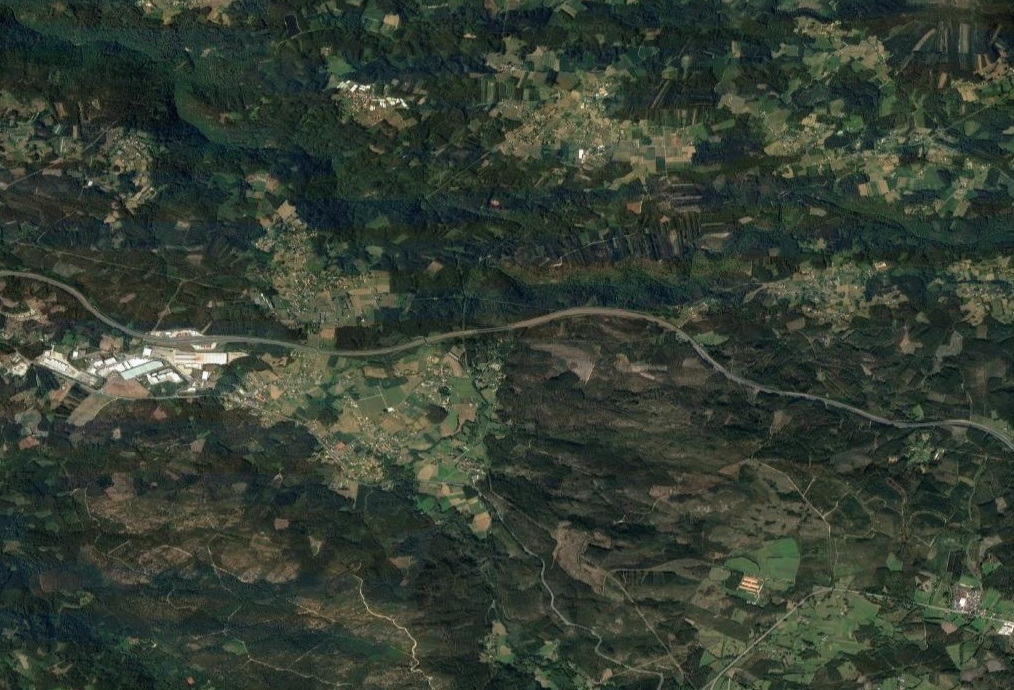industrial: (46, 336, 234, 400)
motorway: (1, 260, 118, 321), (562, 287, 685, 342), (688, 338, 795, 399), (795, 388, 925, 434), (437, 303, 559, 347), (926, 405, 1014, 457), (120, 322, 279, 349), (280, 331, 439, 358)
